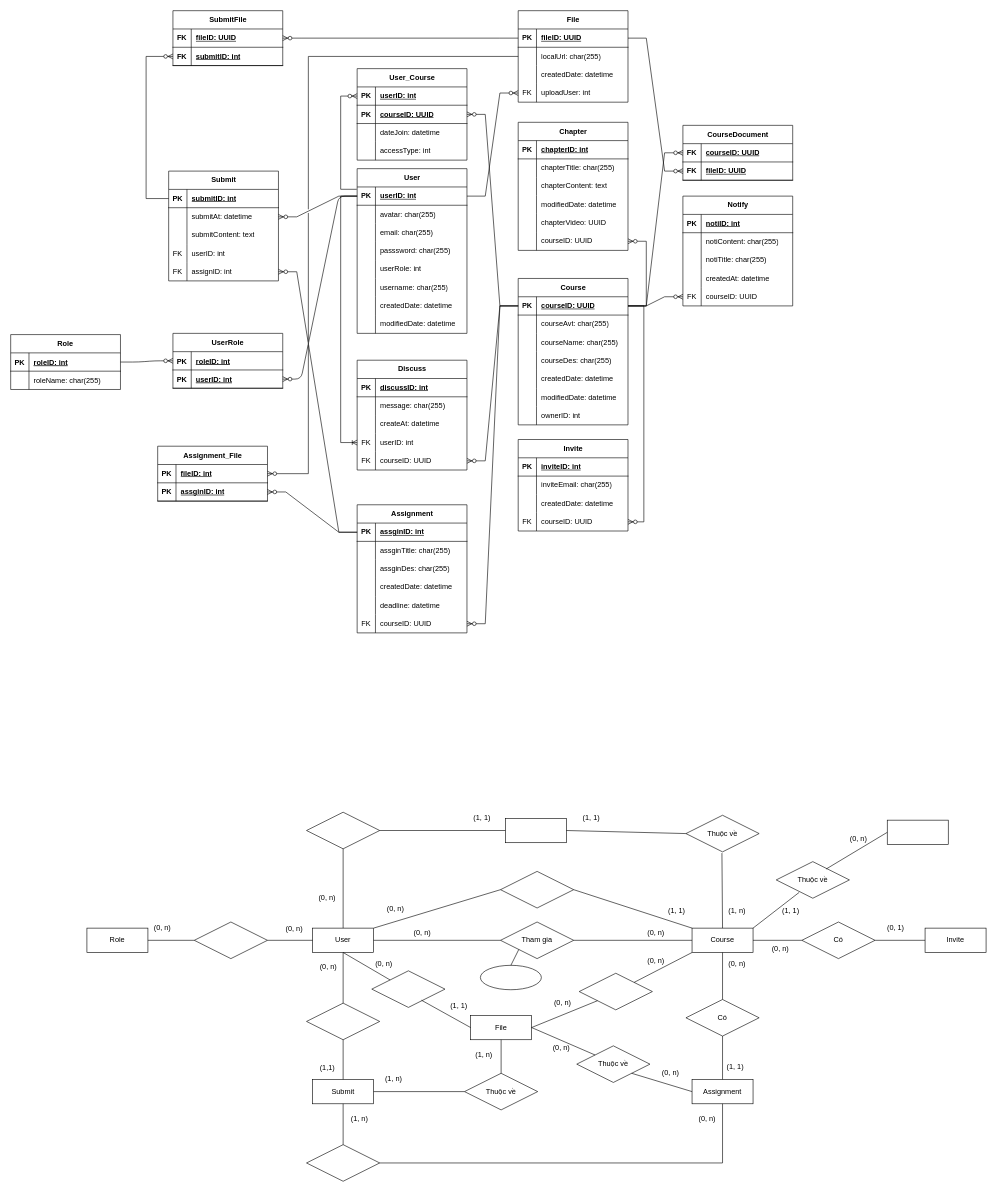
The diagram is 997 pixels wide and 1192 high, and some of its shapes have lost their labels. Each missing label, with the centre of its shape:
Có vai trò: the point at 230,940
Department: the point at 917,832
Gửi: the point at 343,830
Là tài liệu: the point at 615,991
Message: the point at 535,830
Nộp: the point at 343,1162
Sở hữu: the point at 537,889
Tạo: the point at 343,1021
Tải lên: the point at 408,988
Điểm quá trình: the point at 510,977
